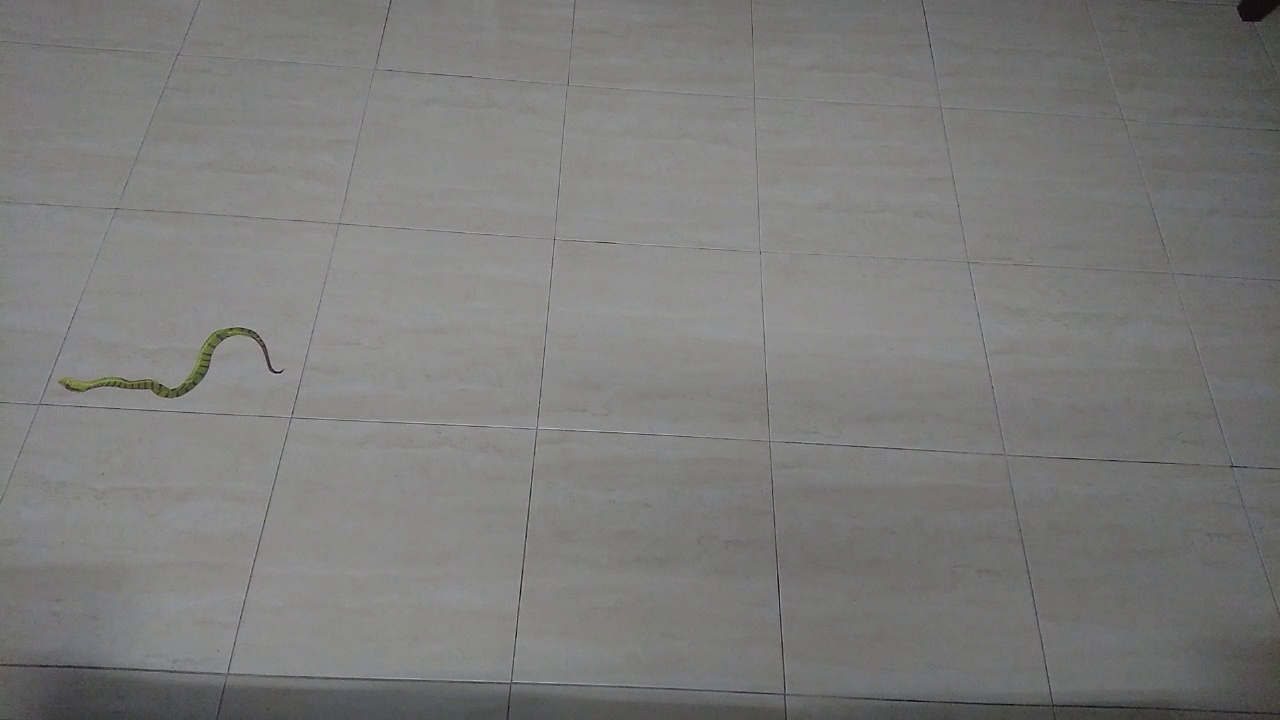snake: (44, 313, 298, 409)
